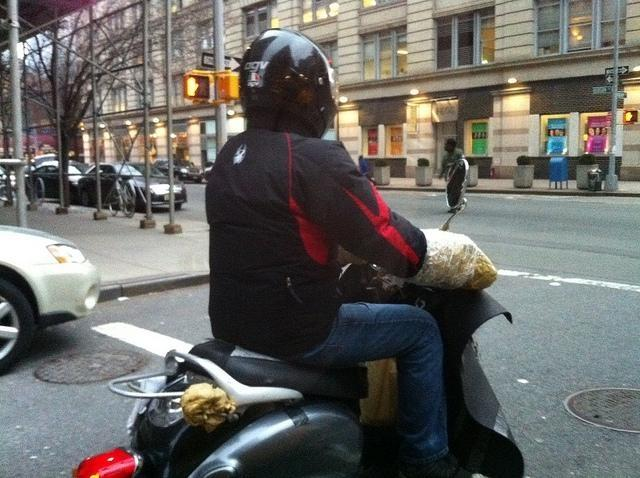bicycle: (108, 175, 136, 218), (27, 178, 45, 204)
car: (0, 224, 101, 372), (78, 162, 188, 214), (32, 154, 84, 204), (154, 158, 203, 183)
motorcycle: (76, 226, 526, 472)
